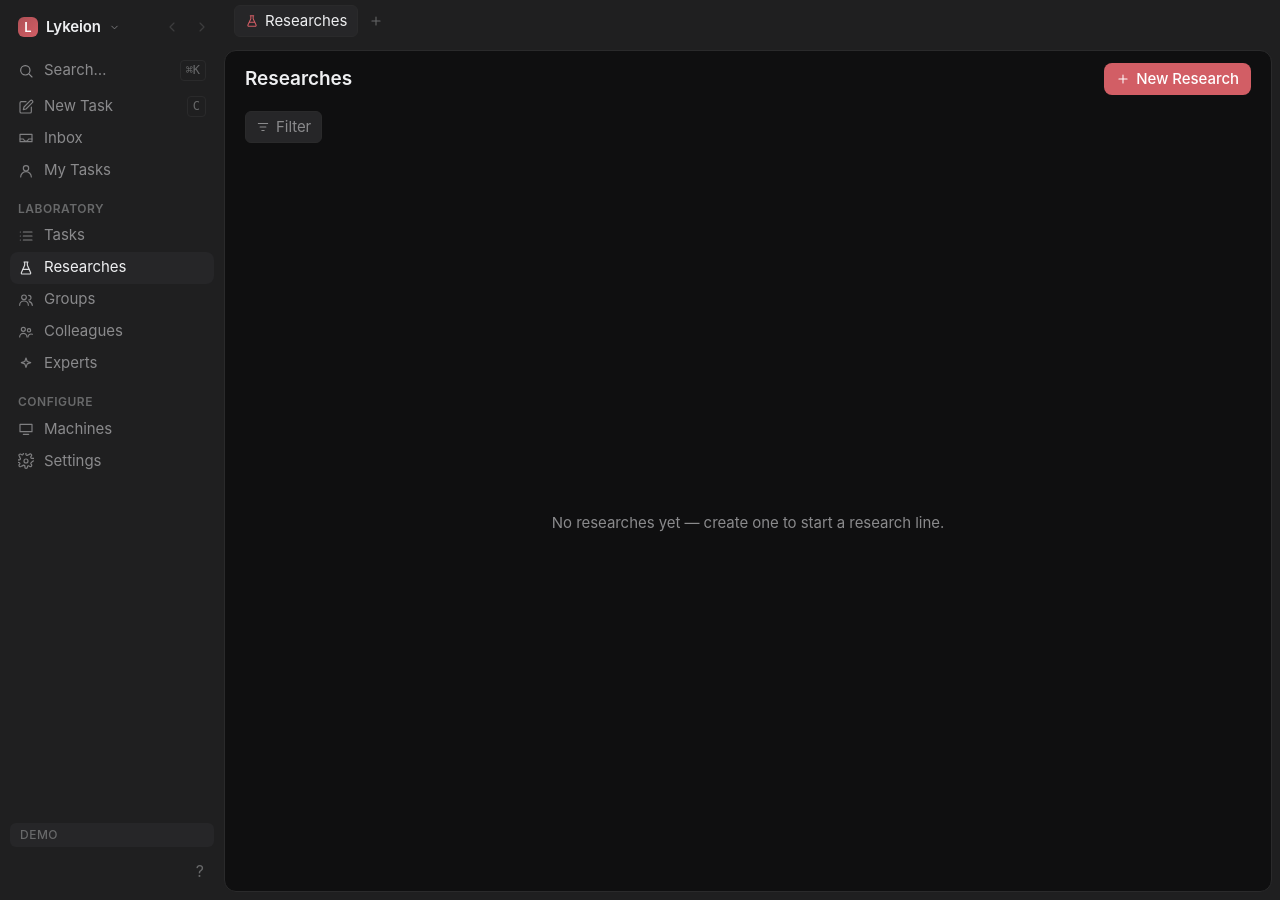
Test: renders the empty state on a fresh install
Click the link "Tasks": (51, 235) [18,225,85,244]
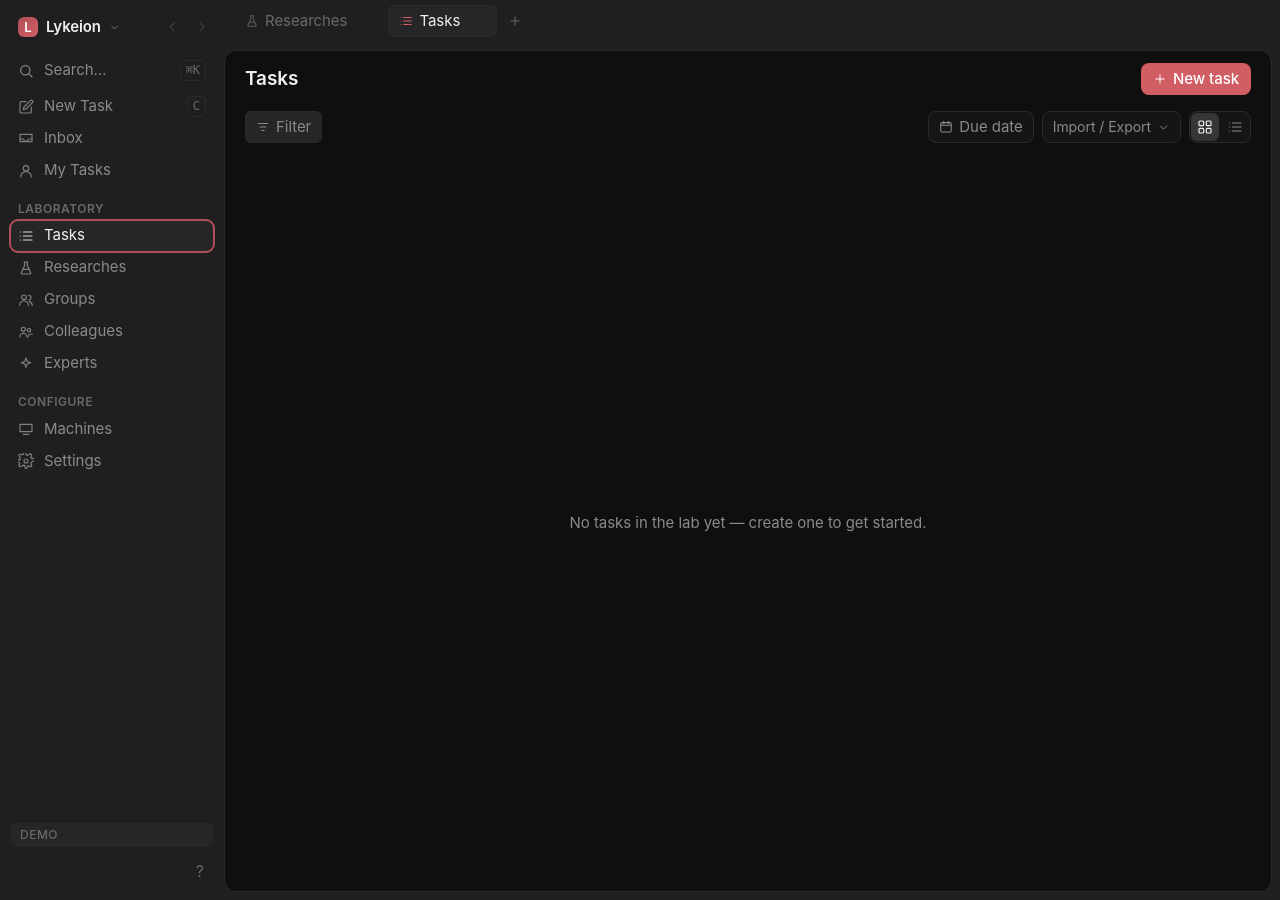
Now the text "No tasks in the lab yet — create one to get started." is shown, box [570,513,926,532]
